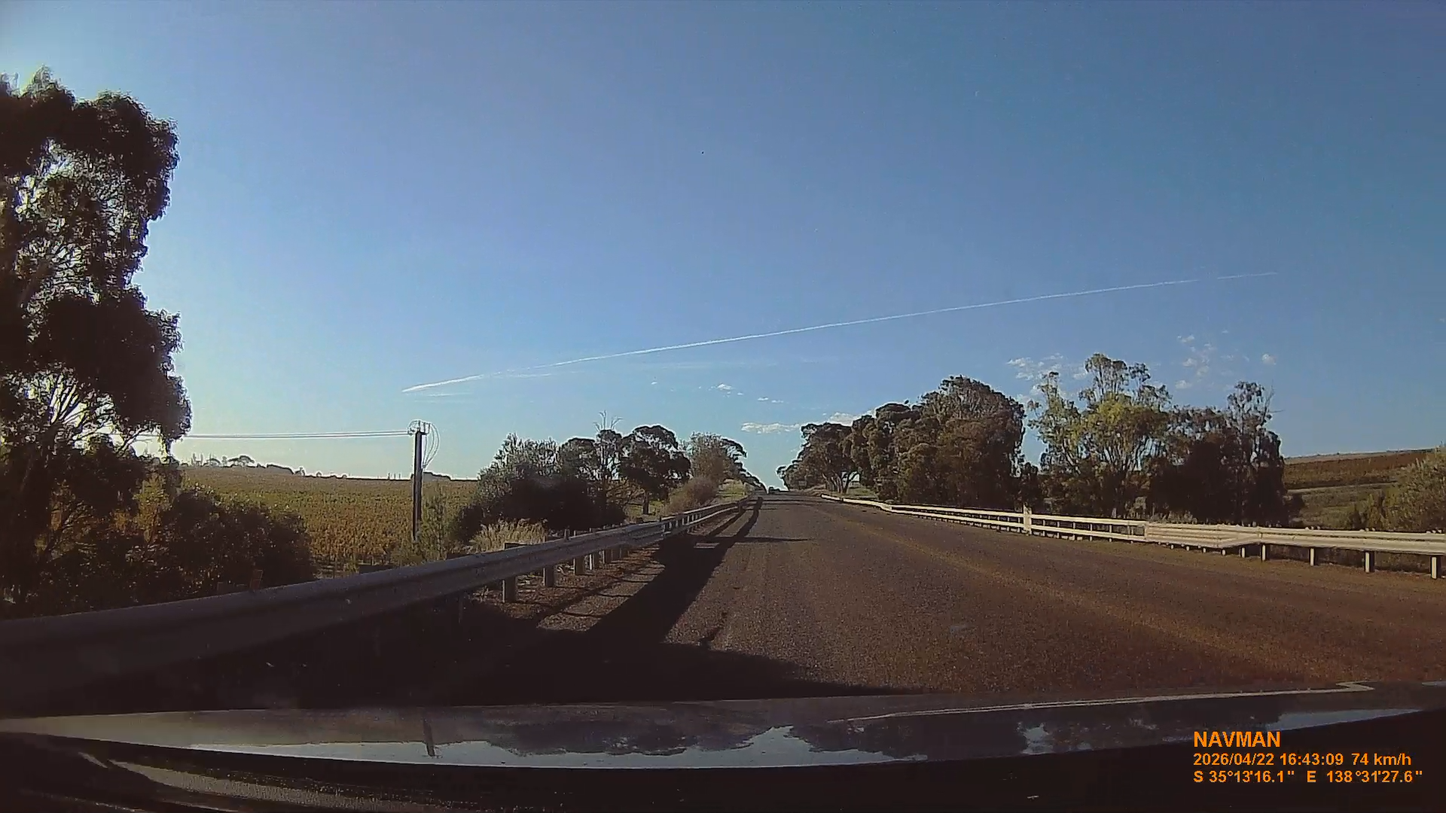road barriers: (0, 515, 693, 709), (843, 499, 1445, 577), (468, 494, 763, 603)
